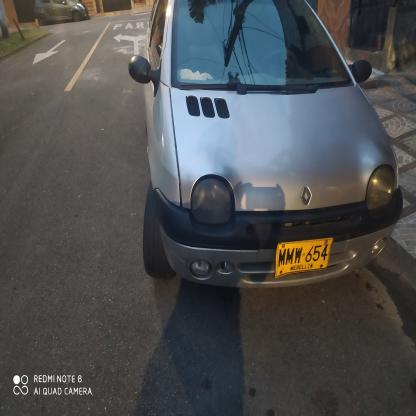placa: (274, 236, 334, 280)
